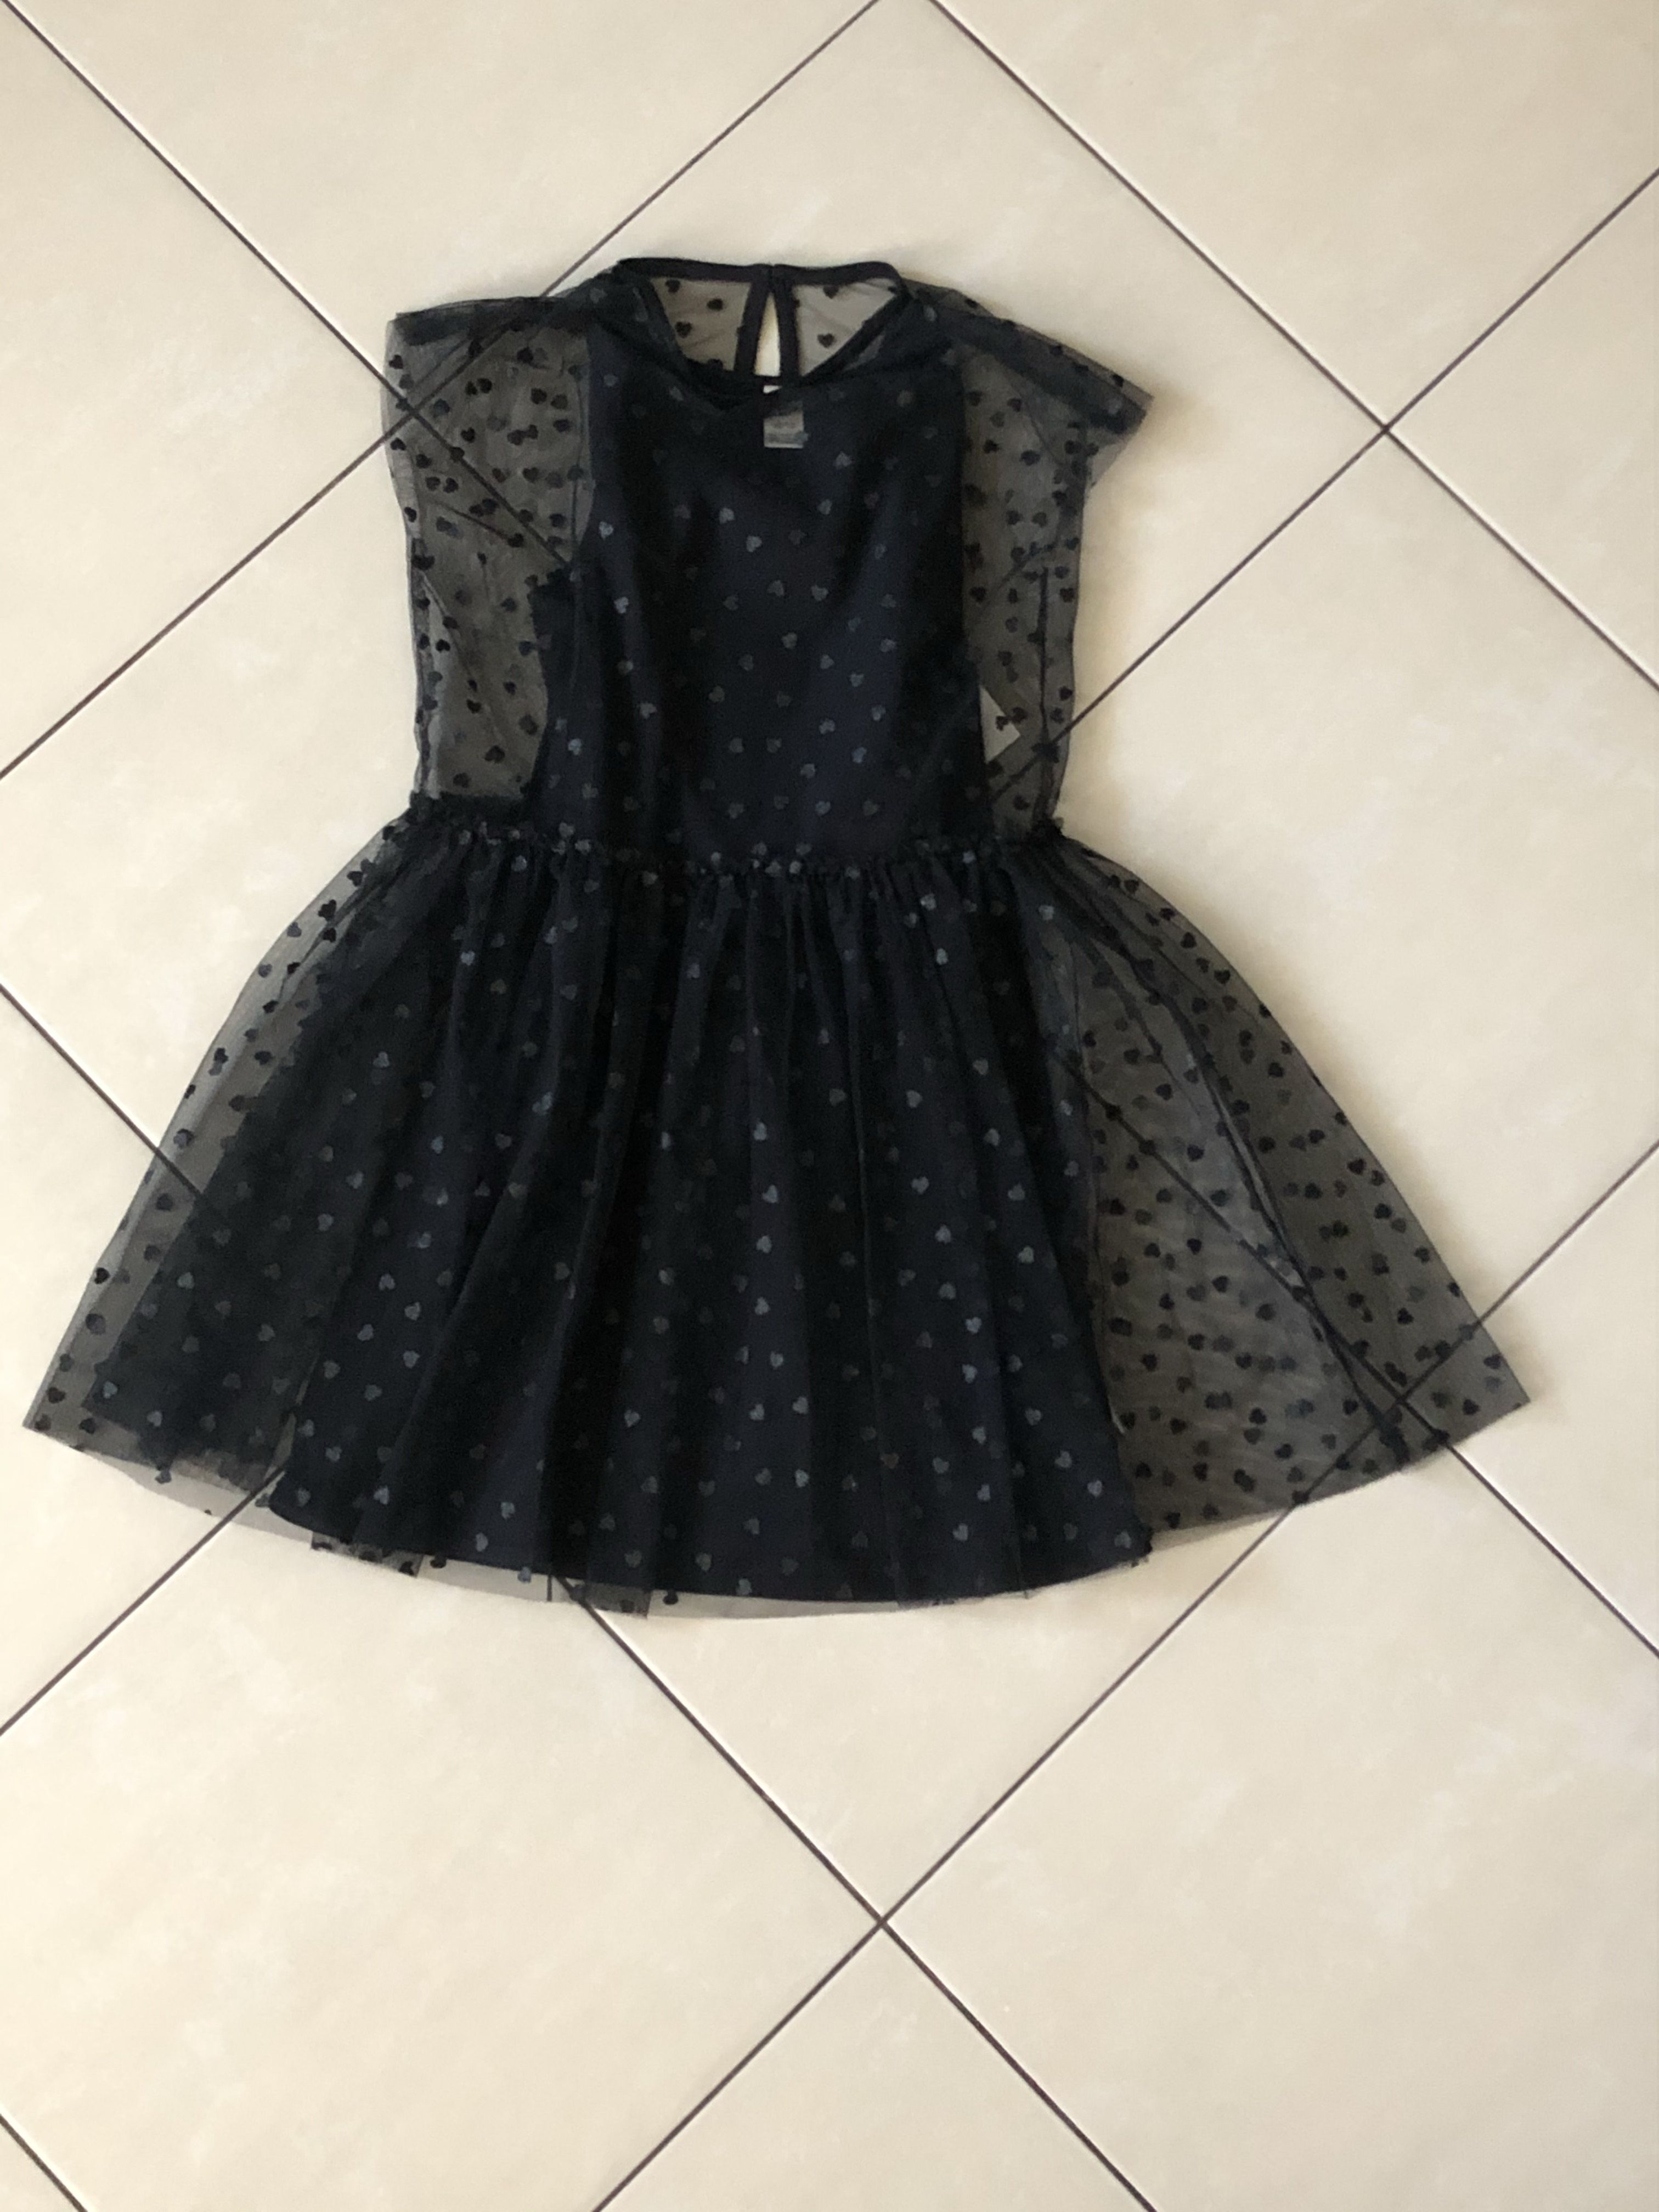clothes: (5, 260, 1532, 1594)
